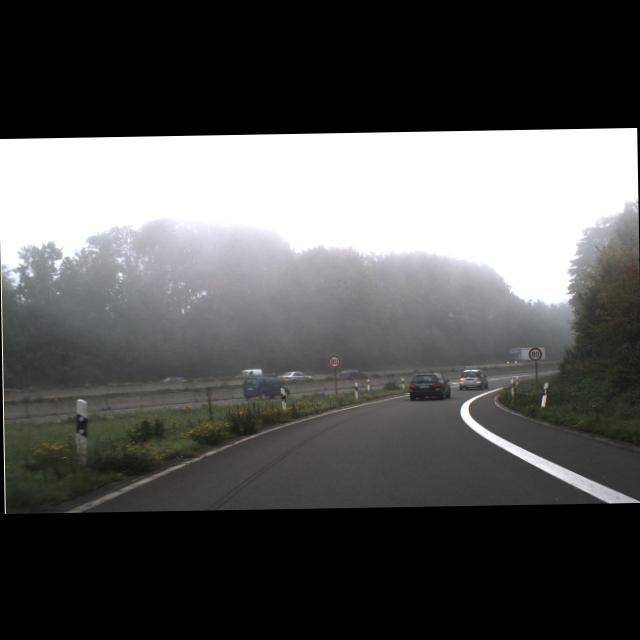prohibitory: (528, 346, 542, 361), (326, 354, 339, 368)
